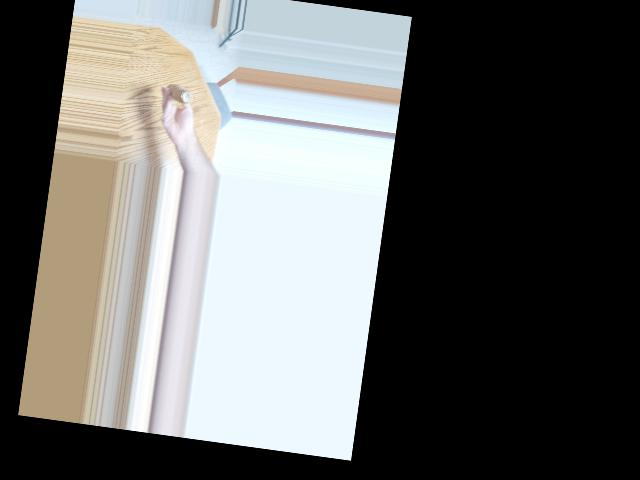sweet_potato: (163, 82, 197, 110)
